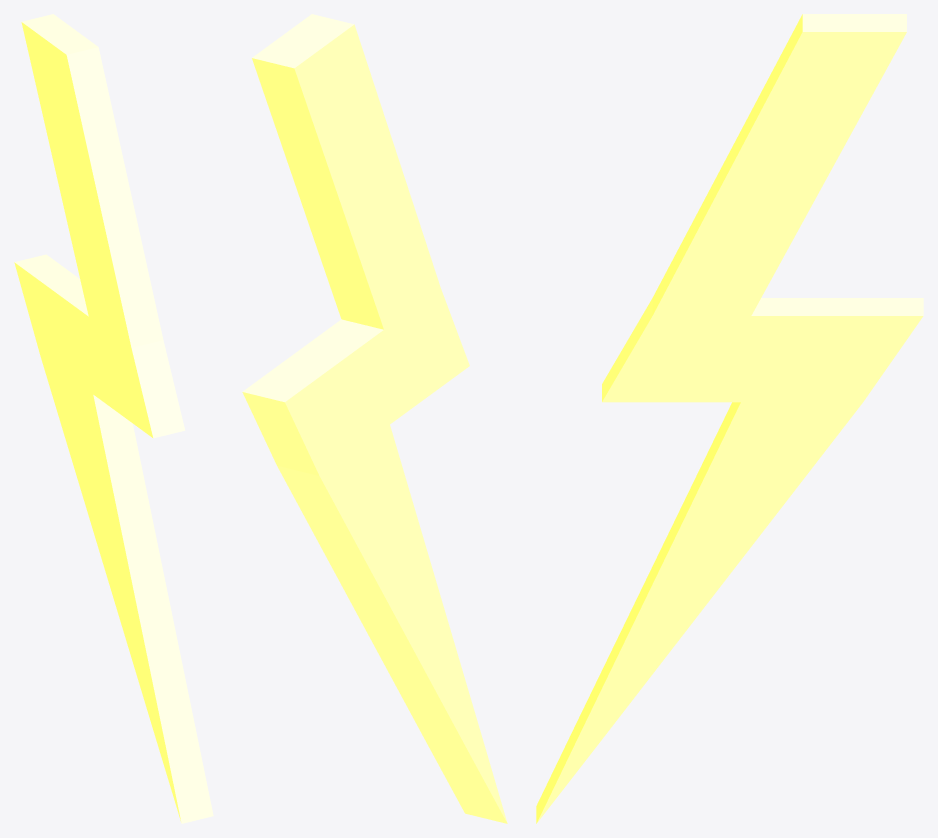
File: rayo.glb
3 views of the same model, side by side, from view 1: azimuth 30°, elevation 25°; view 2: azimuth 150°, elevation 25°; view 3: azimuth 270°, elevation 25° (orthographic). The views are drawn at different scales.
Parts seen in each view (by area): view 1: Plane; view 2: Plane; view 3: Plane.
Part boxes in pixels (<box>): Plane: <box>14,14,213,823</box>; Plane: <box>242,14,507,823</box>; Plane: <box>536,14,923,823</box>.
Size of the model in its own units: 0.1405 by 2.87 by 1.27.
